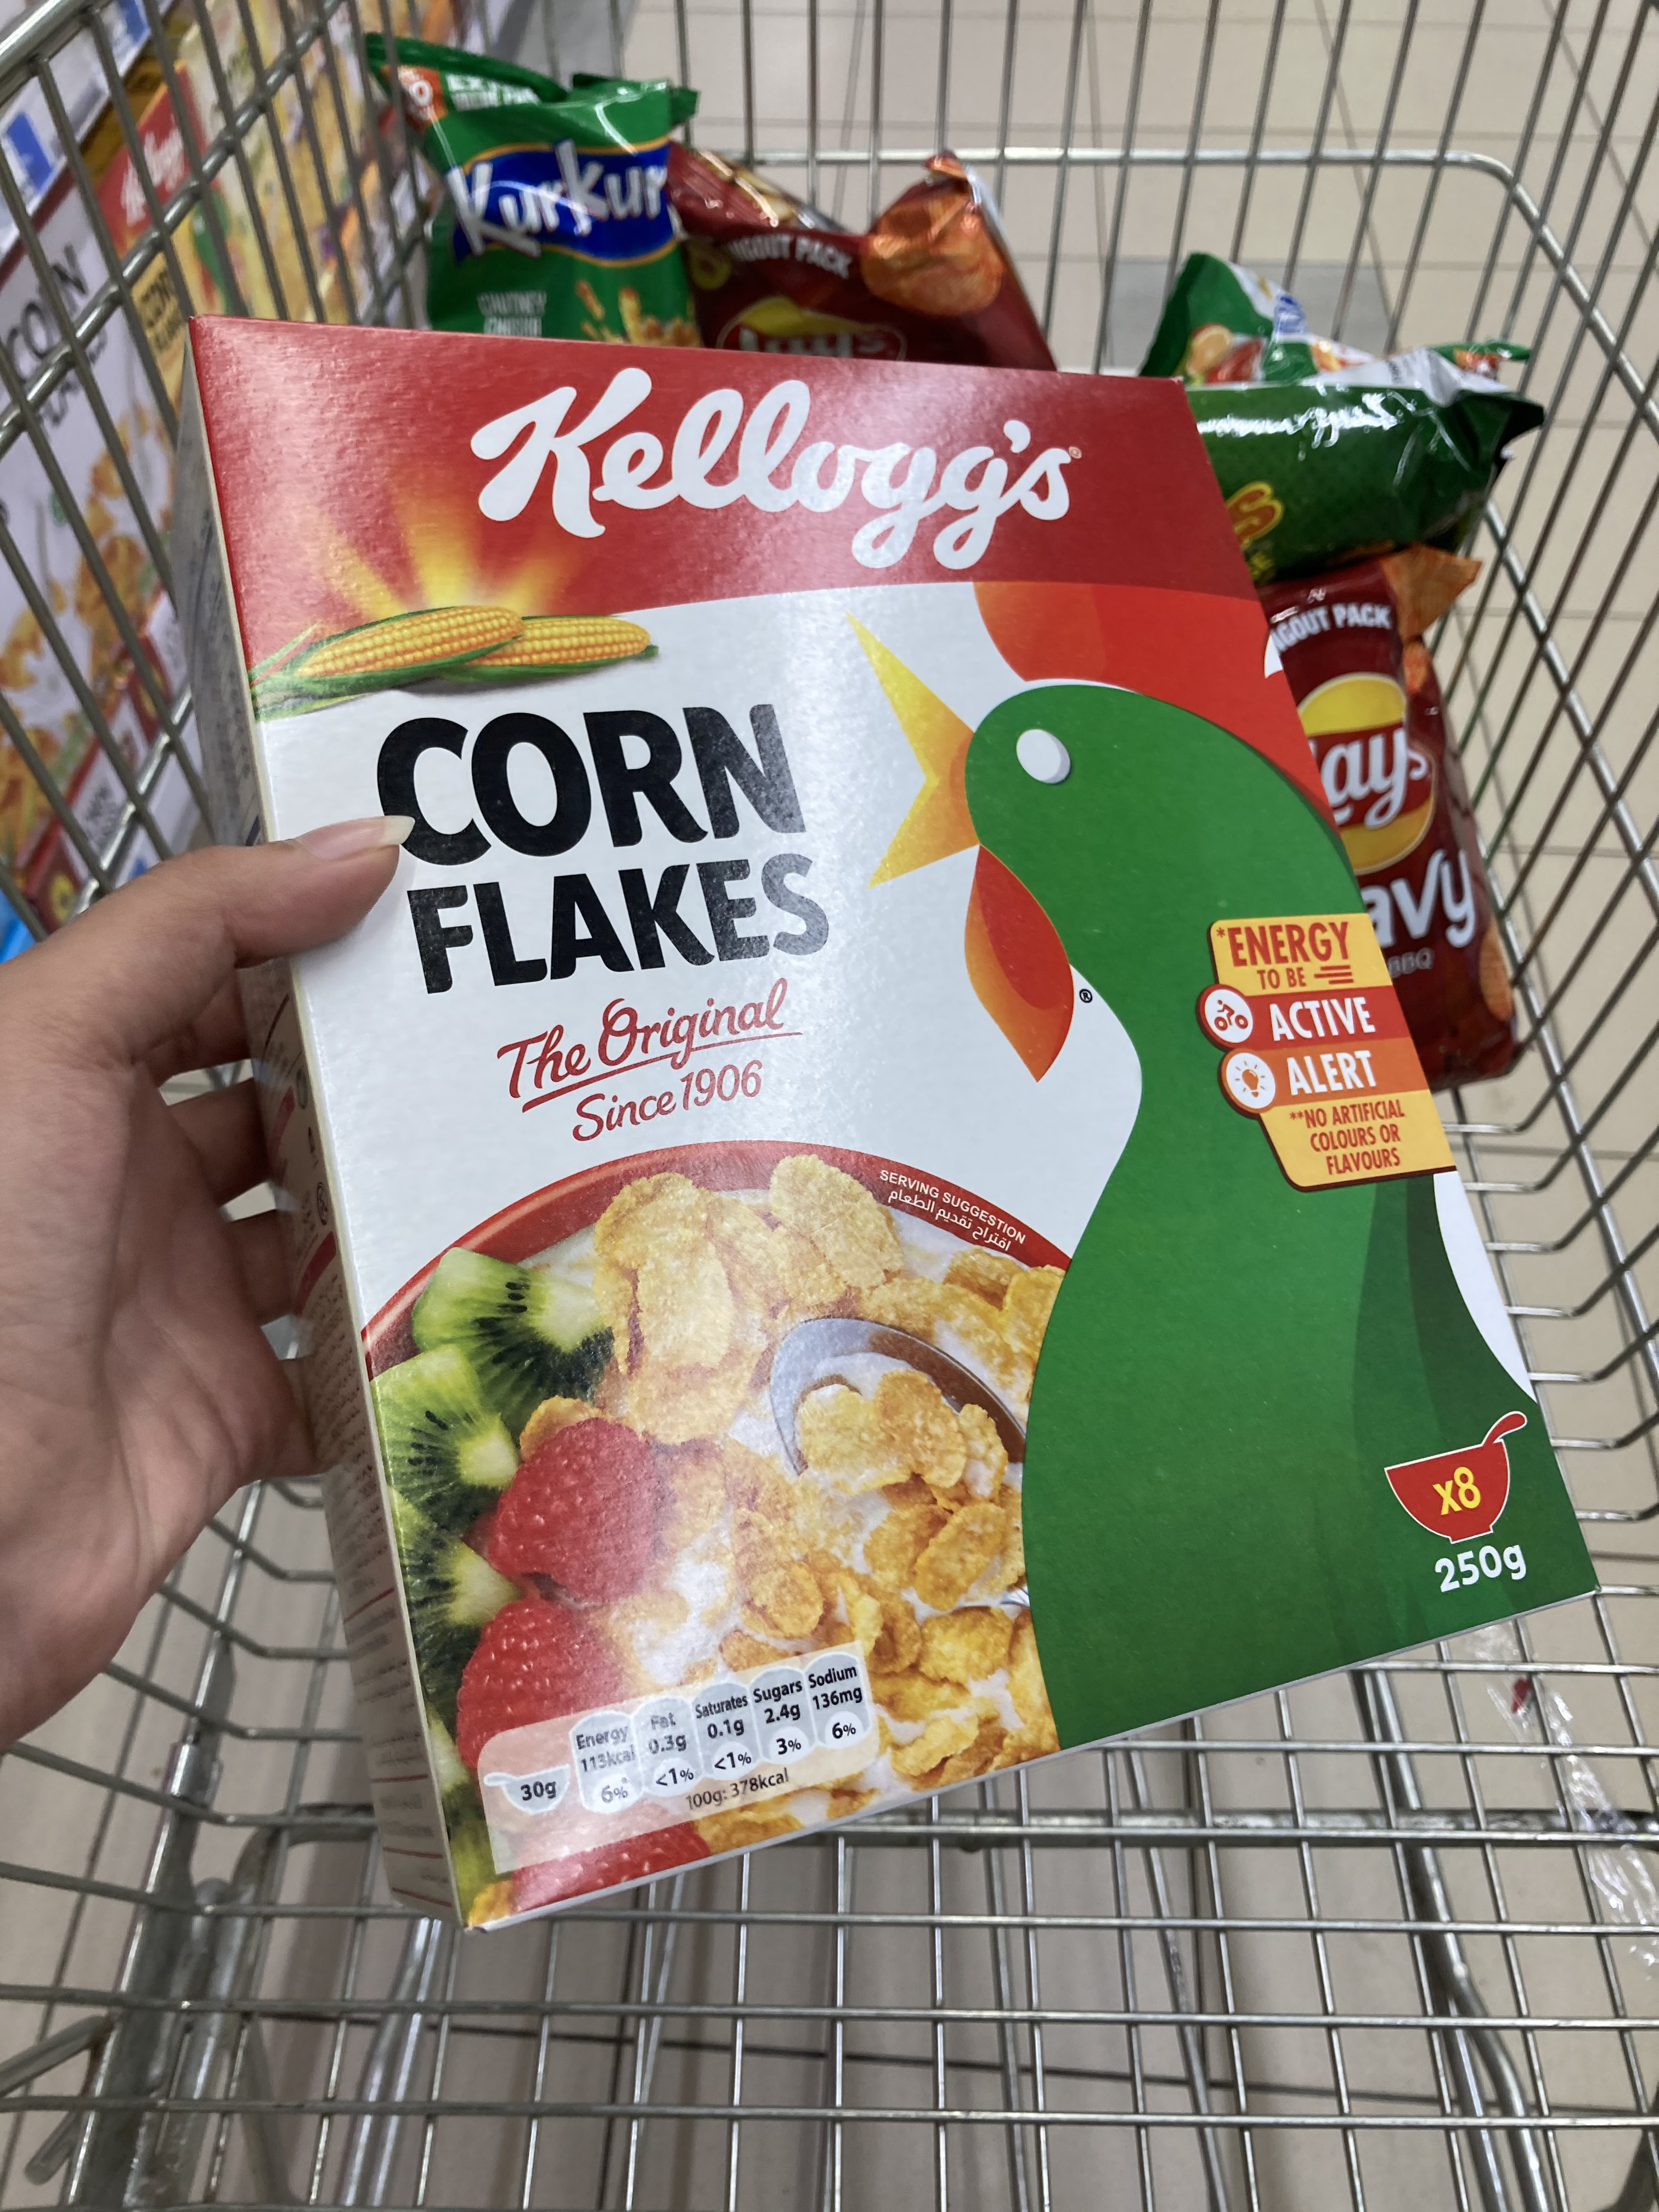Kellogg's Corn Flakes: (169, 314, 1596, 1926)
